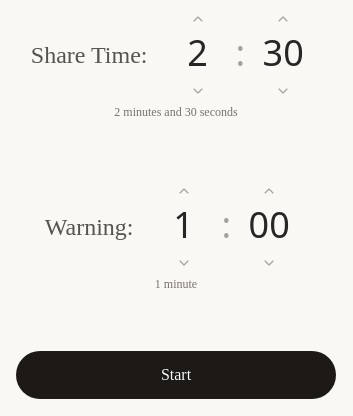
App › setup › lets the user enter Warning ≥ Sharing time but shows a validation error
The width and height of the screenshot is (353, 416).
Clear the 1st field named "Minutes" at [198, 53], box [164, 33, 232, 73]
Clear the 2nd field named "Seconds" at [283, 53], box [249, 33, 317, 73]
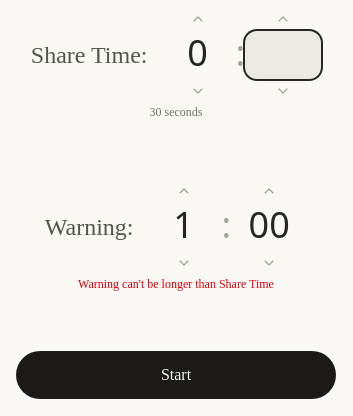
Clear the 3rd field named "Minutes" at [184, 225], box [150, 205, 218, 245]
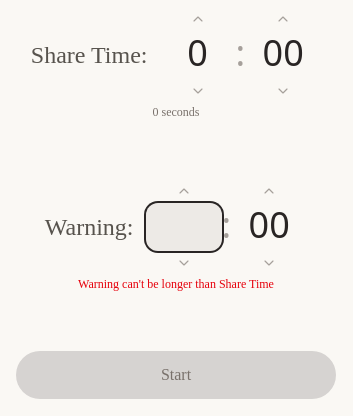
Clear the 4th field named "Seconds" at [269, 225], box [235, 205, 303, 245]
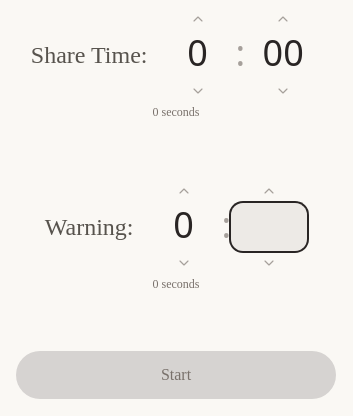
Press Tab
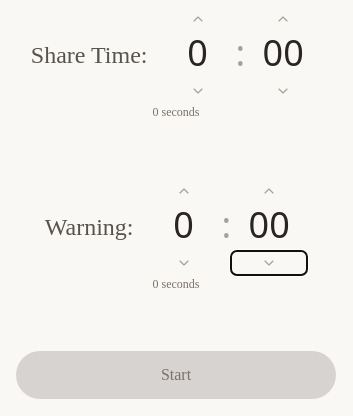
Type "5" into the 1st field named "Minutes".
click(198, 53); type("5")  # box [164, 33, 232, 73]
Then press Enter
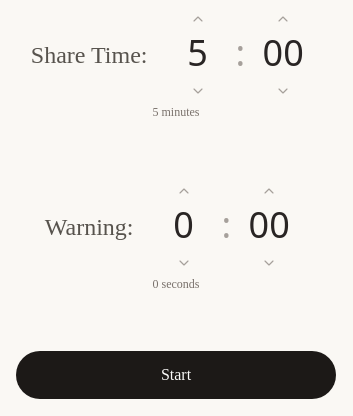
Type "8" into the 3rd field named "Minutes".
click(184, 225); type("8")  # box [150, 205, 218, 245]
Then press Enter
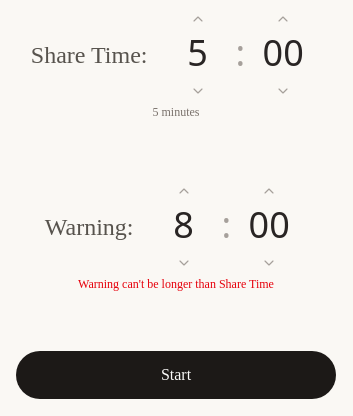
Expected: the 4th field named "Seconds" holds "00", [235, 205, 303, 245]
Expected: the message reads "Warning can't be longer than Share Time", [78, 277, 274, 291]
